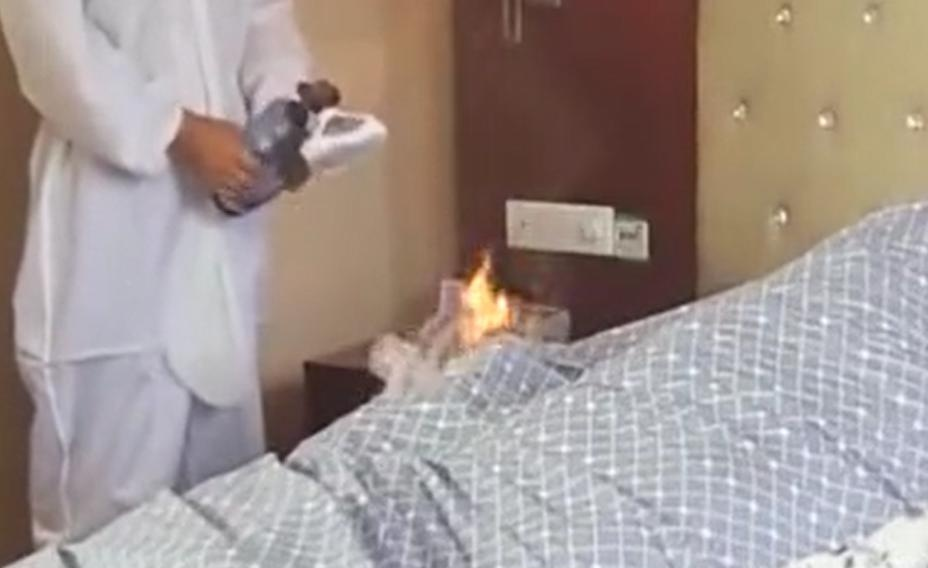fire: (457, 244, 510, 340)
